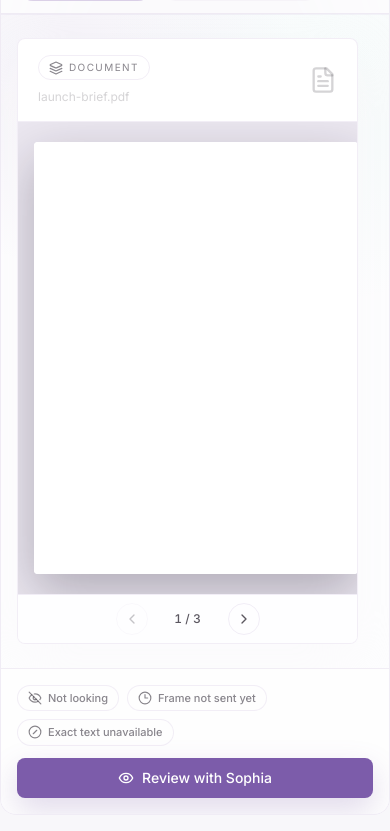
Test: Coreview artifact still-frame review › keeps review stale-active when an auto refresh attempt fails
(page scrolled)
Click the button "Review with Sophia". click: (195, 778)
box: left=17, top=758, right=373, bottom=798
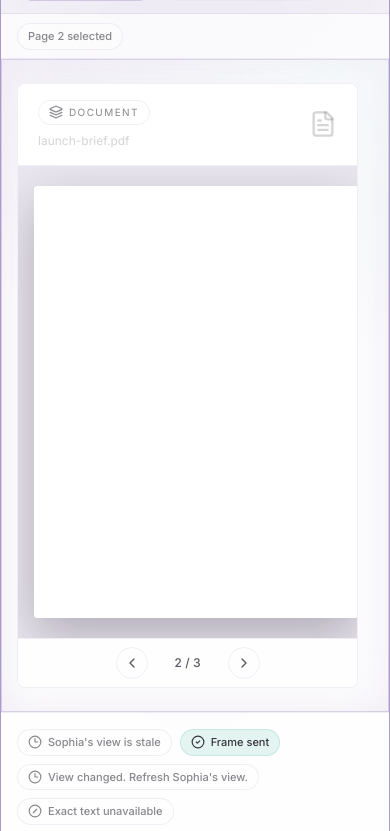
Expected: the text "View changed. Refresh Sophia's view." is shown, left=48, top=768, right=248, bottom=785
Expected: the message "Sophia's view is stale" is shown, left=17, top=729, right=172, bottom=756
